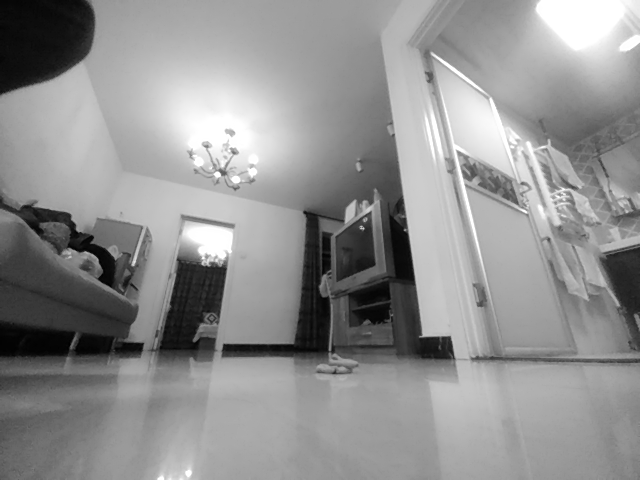curtain: (293, 211, 321, 353), (158, 258, 199, 353)
pet feces: (315, 352, 359, 376)
